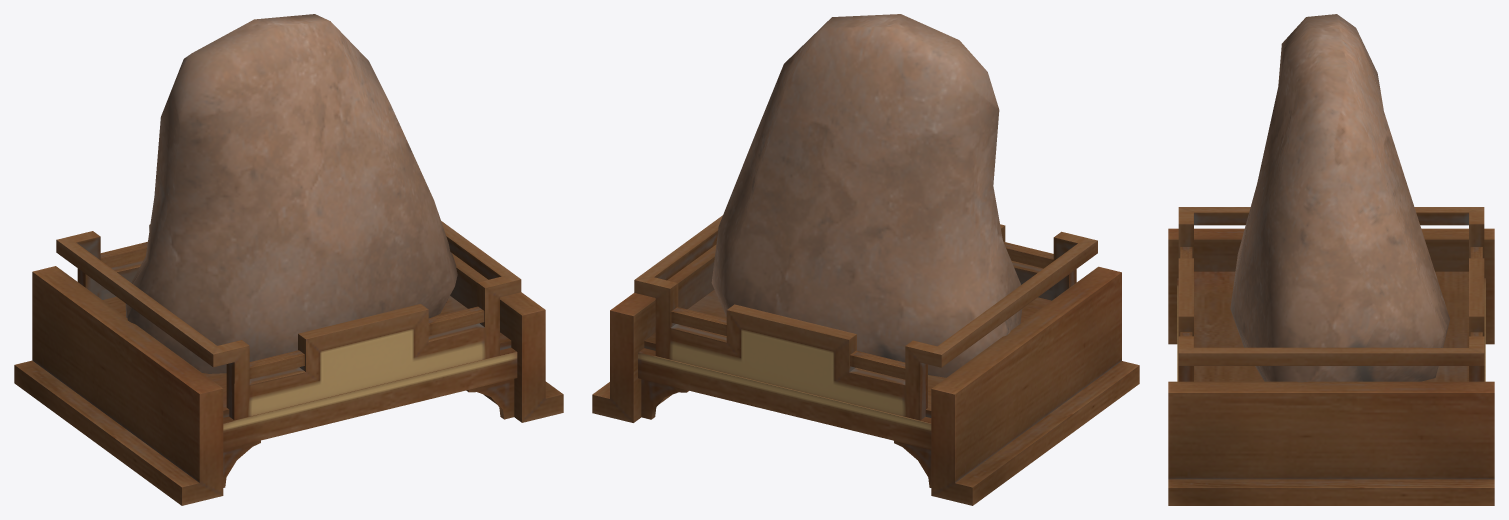
The model's file is Furniture_01_c.FBX.
3 views of the same model, side by side, from view 1: azimuth 30°, elevation 25°; view 2: azimuth 150°, elevation 25°; view 3: azimuth 270°, elevation 25° (orthographic). The views are drawn at different scales.
Parts seen in each view (by area): view 1: Furniture_01_c; view 2: Furniture_01_c; view 3: Furniture_01_c.
Part boxes in pixels (left/top/right/bottom): Furniture_01_c: left=14, top=14, right=563, bottom=505; Furniture_01_c: left=592, top=14, right=1139, bottom=505; Furniture_01_c: left=1168, top=14, right=1494, bottom=505.
Bounding box in the file's own units: 56 × 53.81 × 42.57.
